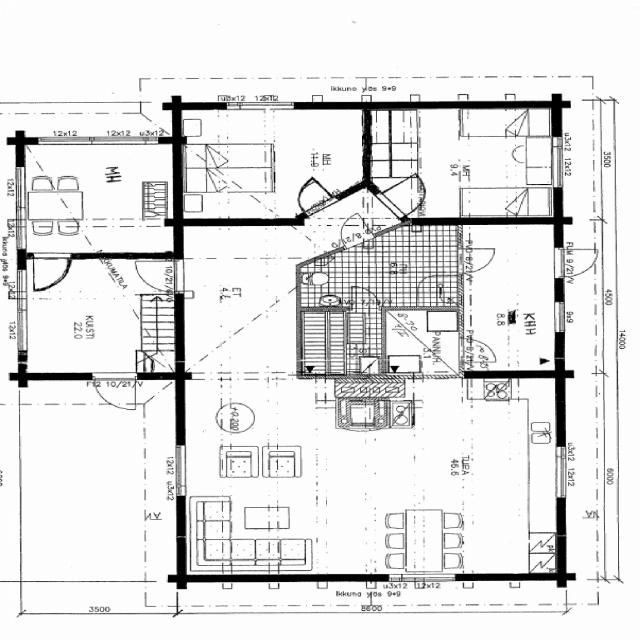door: (376, 173, 437, 218), (286, 176, 337, 218), (328, 212, 374, 249), (33, 251, 74, 290), (136, 261, 186, 292), (94, 372, 134, 410), (555, 250, 601, 277), (458, 248, 496, 272), (458, 339, 495, 363), (351, 286, 379, 312)
